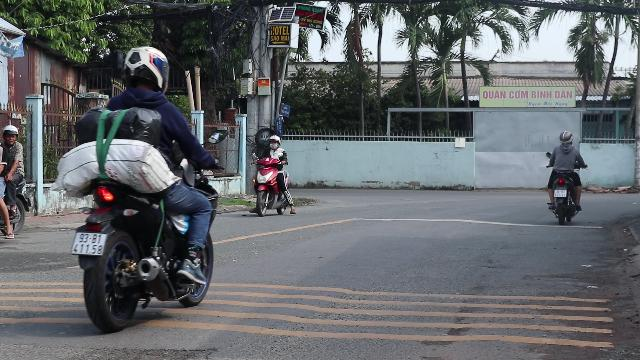helmet: (120, 45, 170, 95), (268, 135, 280, 149)
licenseplate: (73, 232, 105, 256)
motorcyclist: (53, 45, 219, 330), (250, 134, 294, 216)
